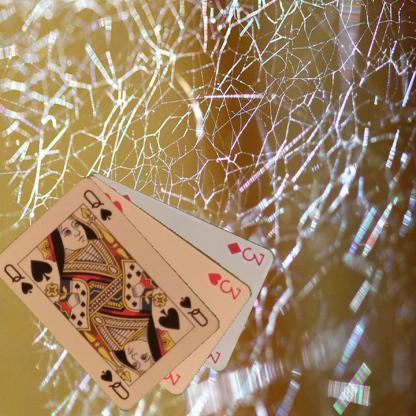3d: (224, 239, 266, 268)
3h: (205, 269, 243, 301)
Qs: (1, 260, 35, 296), (176, 293, 210, 328)
